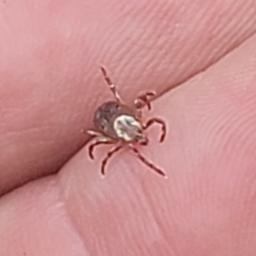Dermacentor variabilis: (82, 65, 171, 182)
